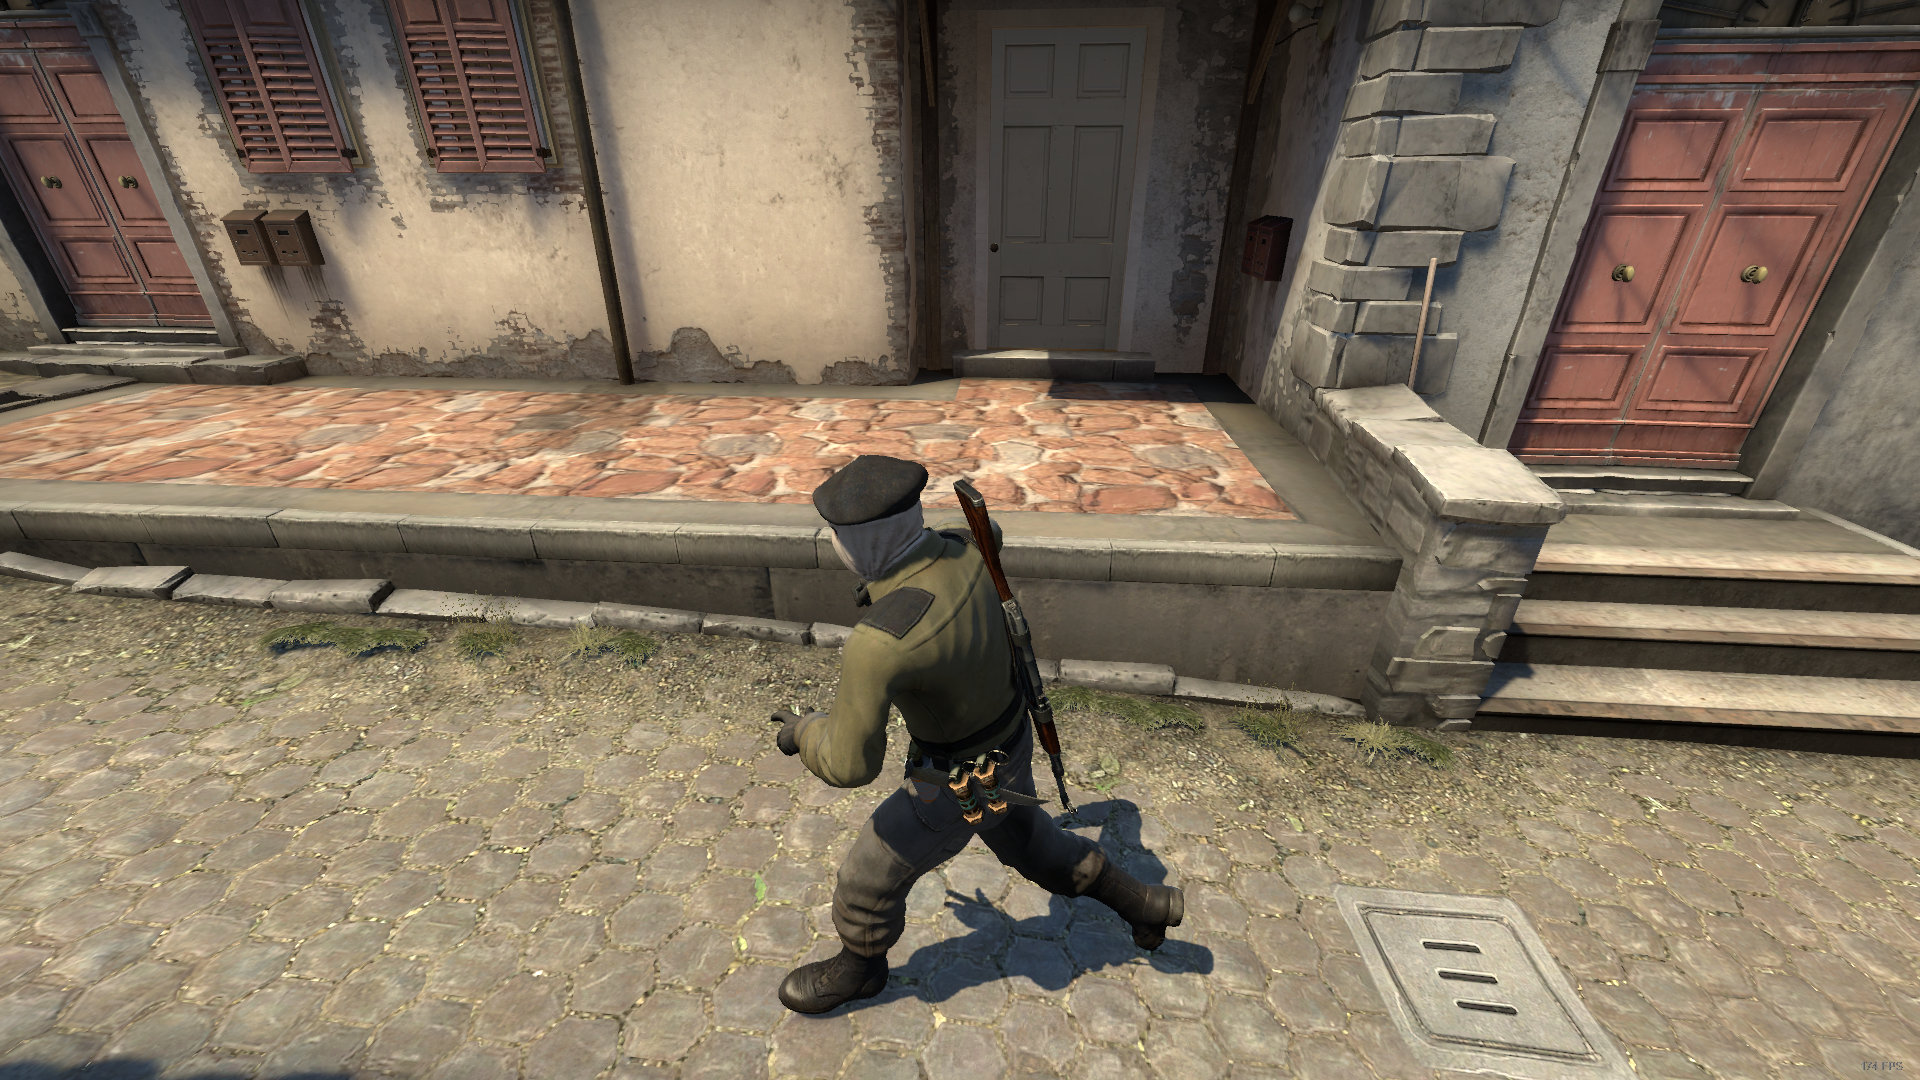t: (770, 454, 1187, 1018)
